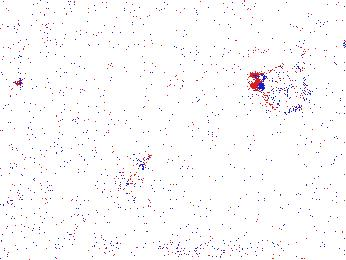flame jellyfish: (93, 153, 152, 209), (251, 64, 314, 114), (1, 173, 50, 233)
